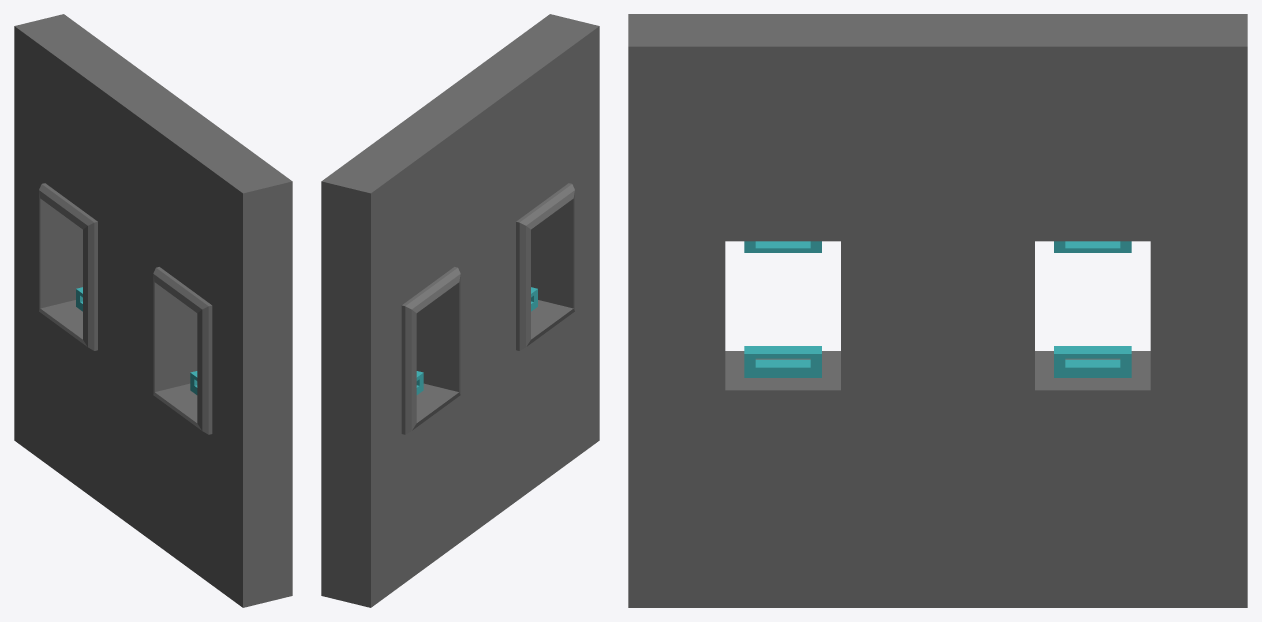
The model's file is SM_B3_Wall2_SM_B3_W_B.fbx.
The picture shows the model from 3 angles, left to right: view 1: azimuth 30°, elevation 25°; view 2: azimuth 150°, elevation 25°; view 3: azimuth 270°, elevation 25°; orthographic projection. The views are drawn at different scales.
Visible parts, largest first — view 1: SM_B3_Wall2_SM_B3_W_B; view 2: SM_B3_Wall2_SM_B3_W_B; view 3: SM_B3_Wall2_SM_B3_W_B.
Boxes of the visible parts, x1,y1,x2,y2 form: SM_B3_Wall2_SM_B3_W_B: (14,14,292,607); SM_B3_Wall2_SM_B3_W_B: (321,14,599,607); SM_B3_Wall2_SM_B3_W_B: (628,14,1247,607).
Bounding box in the file's own units: 60.93 × 406 × 406.
